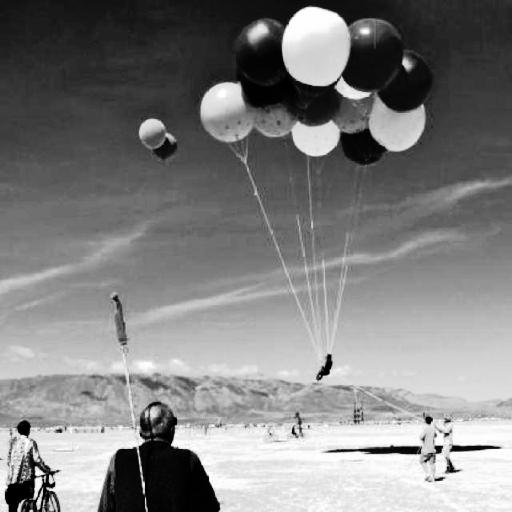balloon: (274, 4, 364, 96), (342, 8, 405, 99), (226, 11, 297, 90), (195, 78, 265, 148), (376, 44, 435, 118), (369, 92, 431, 156), (282, 71, 346, 121), (284, 109, 346, 159), (338, 122, 390, 170), (329, 88, 377, 136), (236, 74, 294, 112), (249, 94, 299, 137), (135, 110, 169, 153), (148, 130, 184, 160)
